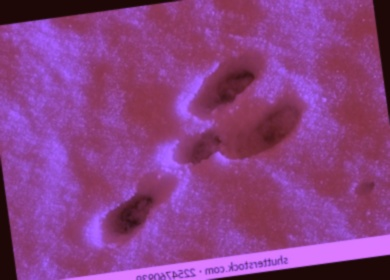lapin: (153, 33, 317, 184), (79, 163, 186, 258)
